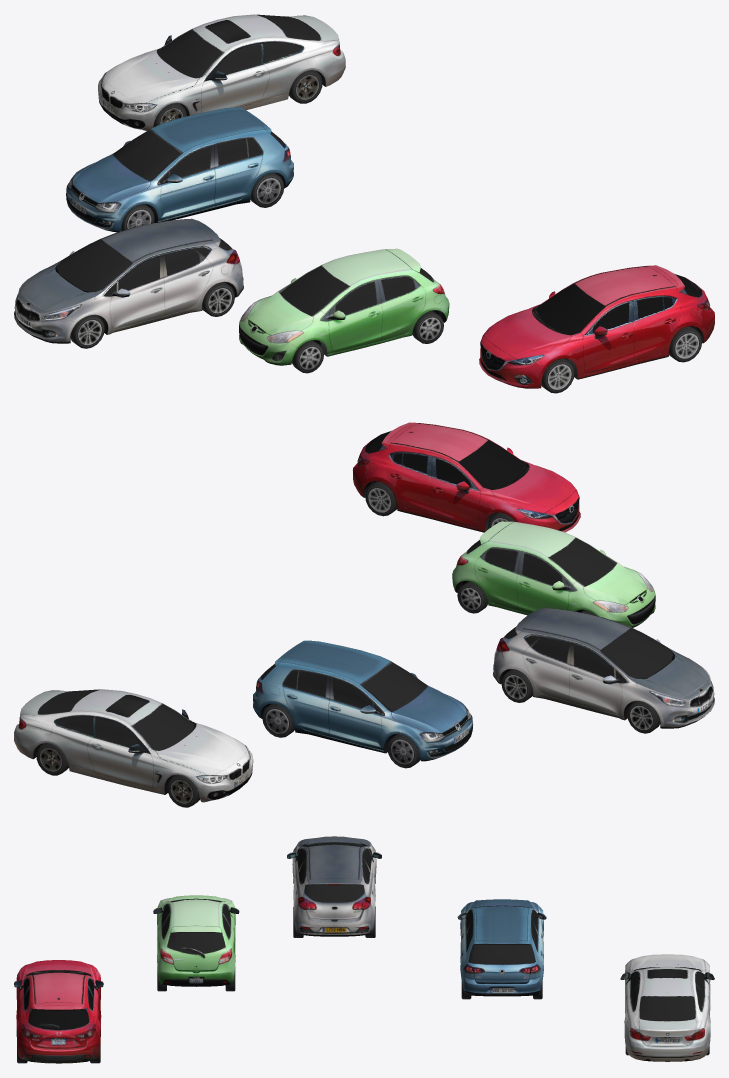
Rendered from traffic_cars.glb.
3 renders of one model, top to bottom at view 1: azimuth 30°, elevation 25°; view 2: azimuth 150°, elevation 25°; view 3: azimuth 270°, elevation 25°, orthographic. The views are drawn at different scales.
Parts seen in each view (by area): view 1: Car_5, Car_1, Car_3, Car_2, Car_4, arka_teker_4, arka_teker_1, on_teker_4, on_teker_2, arka_teker_2, arka_teker, arka_teker_3 (+2 smaller); view 2: Car_1, Car_3, Car_5, Car_2, Car_4, on_teker_1, arka_teker_4, arka_teker_1, on_teker_2, arka_teker_2, on_teker, arka_teker (+1 smaller); view 3: Car_1, Car_5, Car_3, Car_2, Car_4.
Boxes of the visible parts, <box> form: Car_5: <box>479,265,714,388</box>; Car_1: <box>98,14,345,130</box>; Car_3: <box>14,218,243,343</box>; Car_2: <box>66,107,293,232</box>; Car_4: <box>239,248,449,365</box>; arka_teker_4: <box>669,326,702,362</box>; arka_teker_1: <box>250,172,284,207</box>; on_teker_4: <box>541,358,574,393</box>; on_teker_2: <box>70,315,104,348</box>; arka_teker_2: <box>202,282,234,316</box>; arka_teker: <box>288,70,322,103</box>; arka_teker_3: <box>412,310,443,343</box>; Car_1: <box>14,689,253,802</box>; Car_3: <box>493,608,714,728</box>; Car_5: <box>352,422,580,532</box>; Car_2: <box>253,640,473,761</box>; Car_4: <box>452,521,655,627</box>; on_teker_1: <box>387,733,419,768</box>; arka_teker_4: <box>365,481,397,516</box>; arka_teker_1: <box>262,703,294,737</box>; on_teker_2: <box>627,701,660,733</box>; arka_teker_2: <box>501,669,533,702</box>; on_teker: <box>167,774,199,807</box>; arka_teker: <box>36,743,68,775</box>; Car_1: <box>620,954,714,1061</box>; Car_5: <box>14,960,103,1063</box>; Car_3: <box>287,836,381,936</box>; Car_2: <box>457,899,546,996</box>; Car_4: <box>153,895,239,986</box>.
Size of what is drawn, in the model's own units: 1.61 by 0.2235 by 2.23.
Materials: 6 (6 with a texture image).
